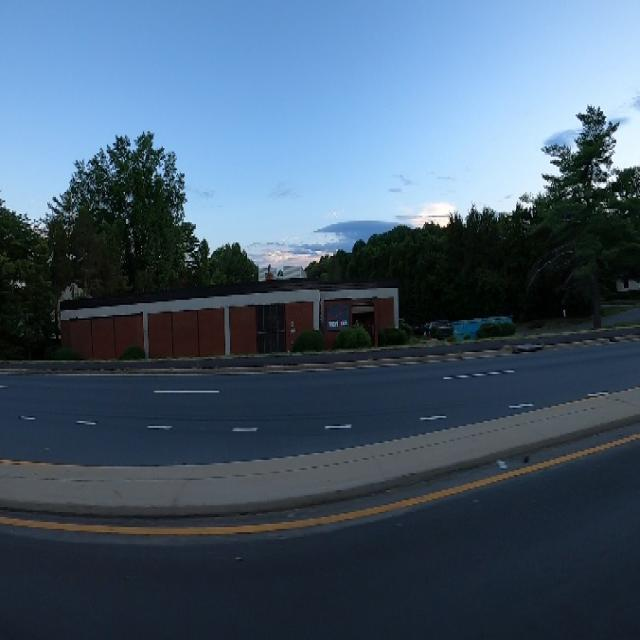cars: (420, 307, 456, 344)
